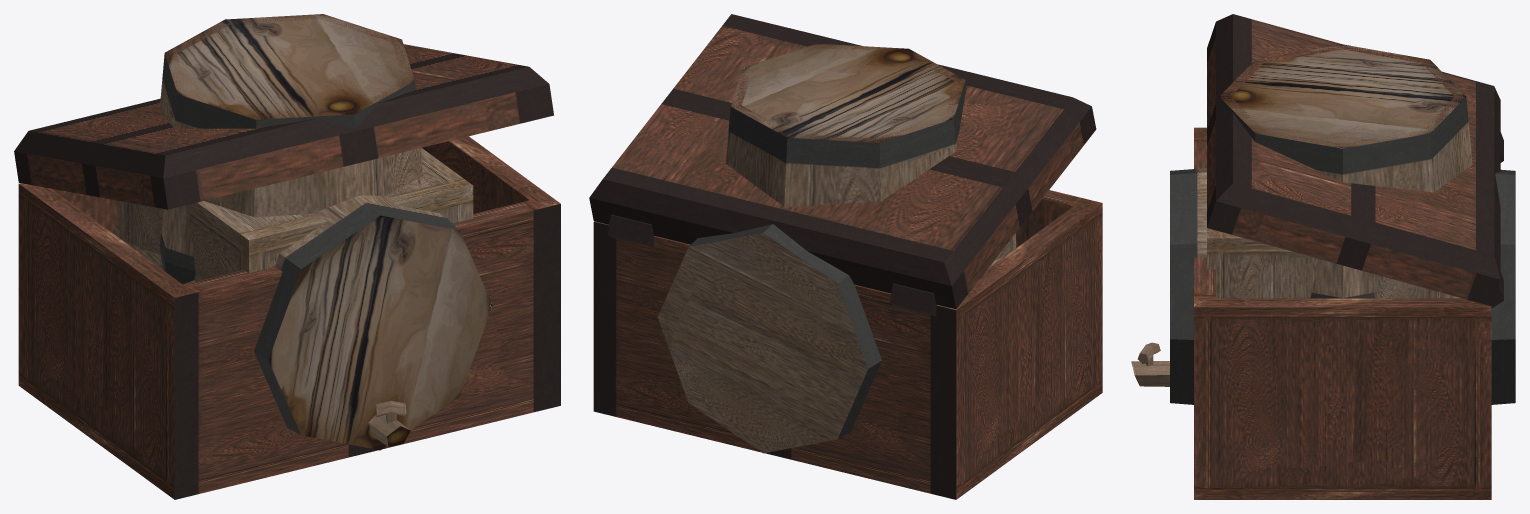
File: Crates_and_barrels_fbx.fbx
3 renders of one model, left to right at view 1: azimuth 30°, elevation 25°; view 2: azimuth 150°, elevation 25°; view 3: azimuth 270°, elevation 25°, orthographic. The views are drawn at different scales.
Visible parts, largest first — view 1: Chest_1, Barrel_2_keg, Chest_1_lid, Barrel_1, Crate_1, Crate_Broken, Barrel_1_open, Crate_1_open; view 2: Chest_1, Chest_1_lid, Barrel_2_keg, Barrel_1, Barrel_1_open; view 3: Chest_1, Chest_1_lid, Barrel_1, Barrel_2_keg, Crate_1, Barrel_1_open, Crate_Broken.
Part boxes in pixels (<box>): Chest_1: <box>18,136,560,499</box>; Barrel_2_keg: <box>112,195,492,450</box>; Chest_1_lid: <box>14,44,553,209</box>; Barrel_1: <box>159,14,423,284</box>; Crate_1: <box>119,148,473,281</box>; Crate_Broken: <box>119,185,445,273</box>; Barrel_1_open: <box>166,14,414,119</box>; Crate_1_open: <box>198,148,472,239</box>; Chest_1: <box>593,190,1102,499</box>; Chest_1_lid: <box>589,14,1096,309</box>; Barrel_2_keg: <box>657,224,1002,453</box>; Barrel_1: <box>725,43,966,206</box>; Barrel_1_open: <box>731,44,964,142</box>; Chest_1: <box>1194,127,1503,499</box>; Chest_1_lid: <box>1207,14,1500,306</box>; Barrel_1: <box>1218,44,1472,298</box>; Barrel_2_keg: <box>1131,168,1515,404</box>; Crate_1: <box>1207,228,1453,298</box>; Barrel_1_open: <box>1220,44,1464,148</box>; Crate_Broken: <box>1207,232,1453,298</box>.
Size of the model in its own units: 0.9505 by 0.7776 by 0.8602.
